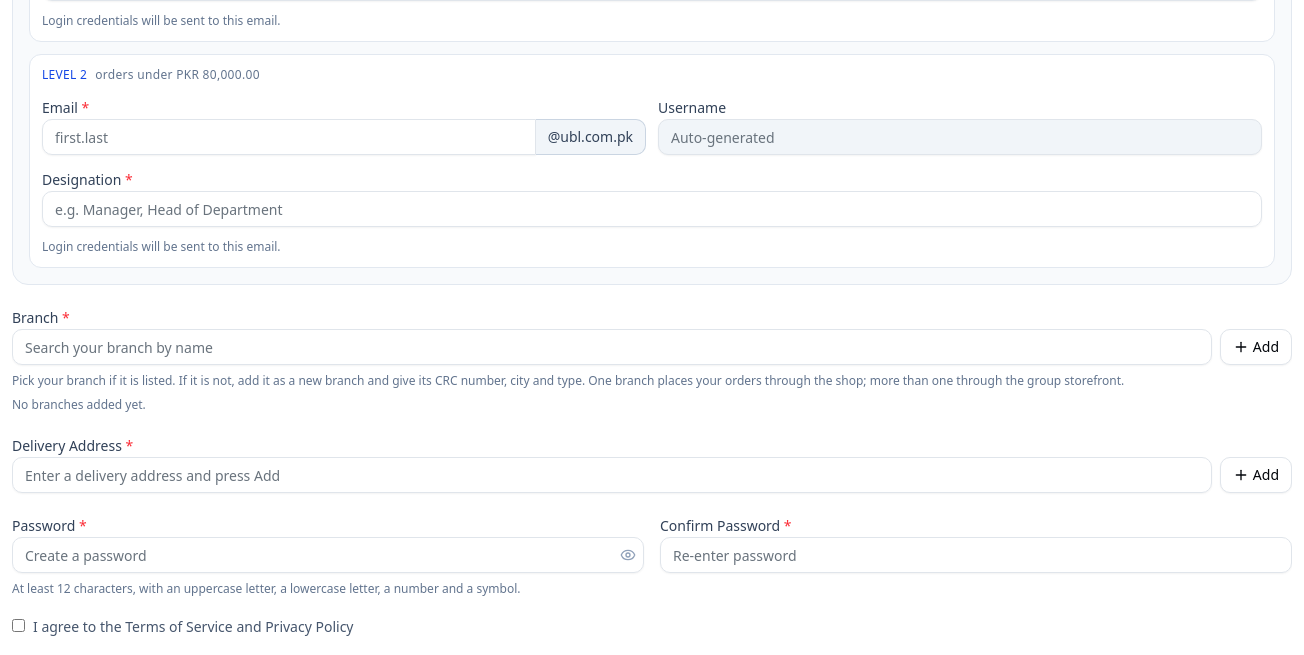
Test: DepartmentSignupForm › refuses a malformed CRC for a new branch instead of adding it
(page scrolled)
In the field with id "signup-branch": (612, 347) [12, 329, 1212, 365], type "Korangi Depot"
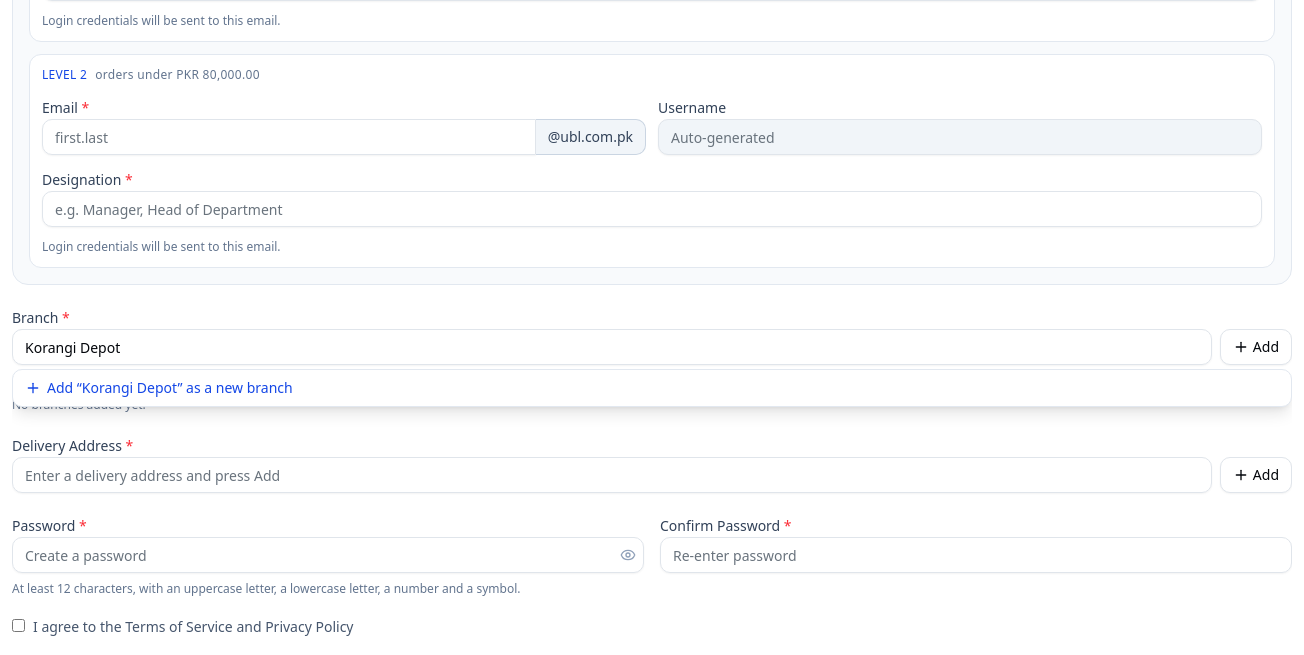
Click the option "Add “Korangi Depot” as a new branch": (64, 388) [13, 370, 1291, 406]
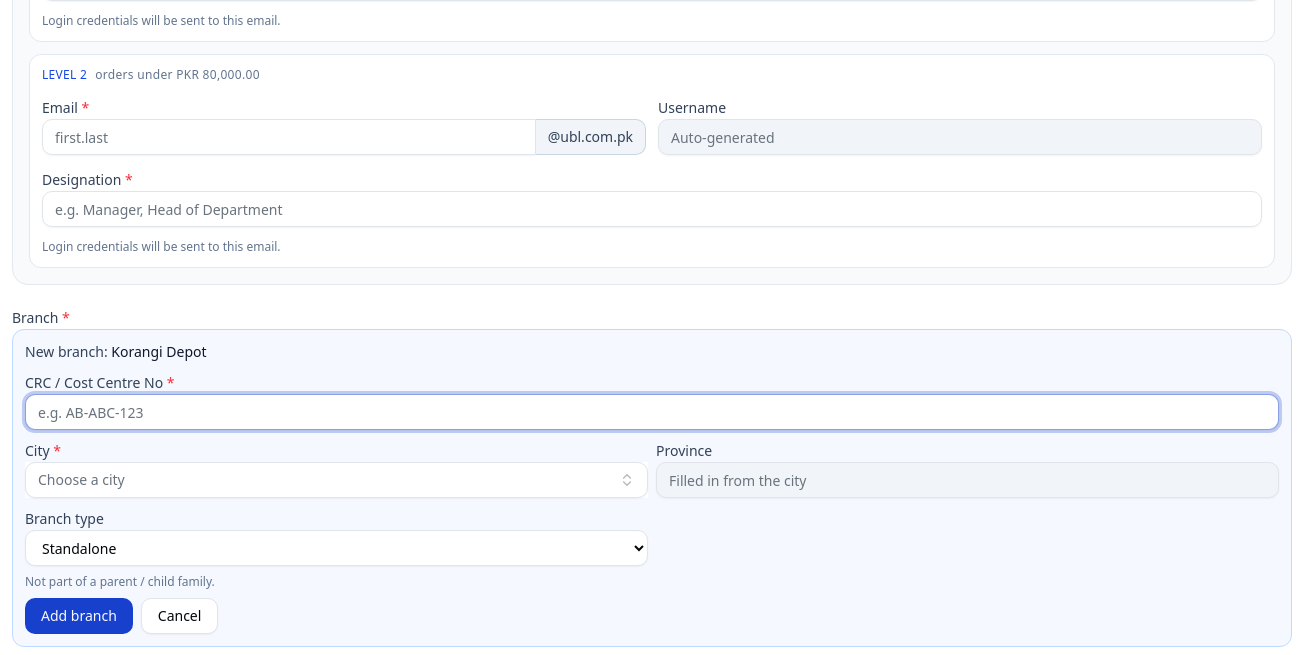
In the field with id "signup-new-branch-crc": (652, 412) [25, 394, 1279, 430], type "AB 12"
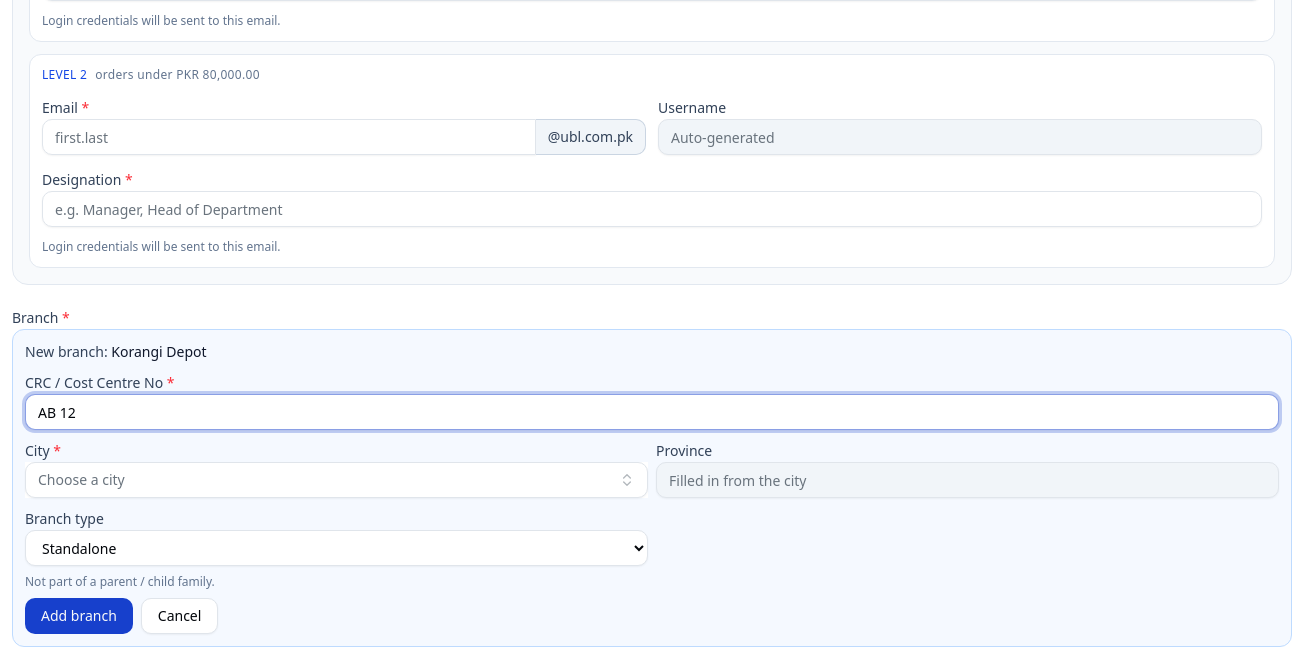
Click the button "Add branch": (79, 616) [25, 598, 133, 634]
(page scrolled)
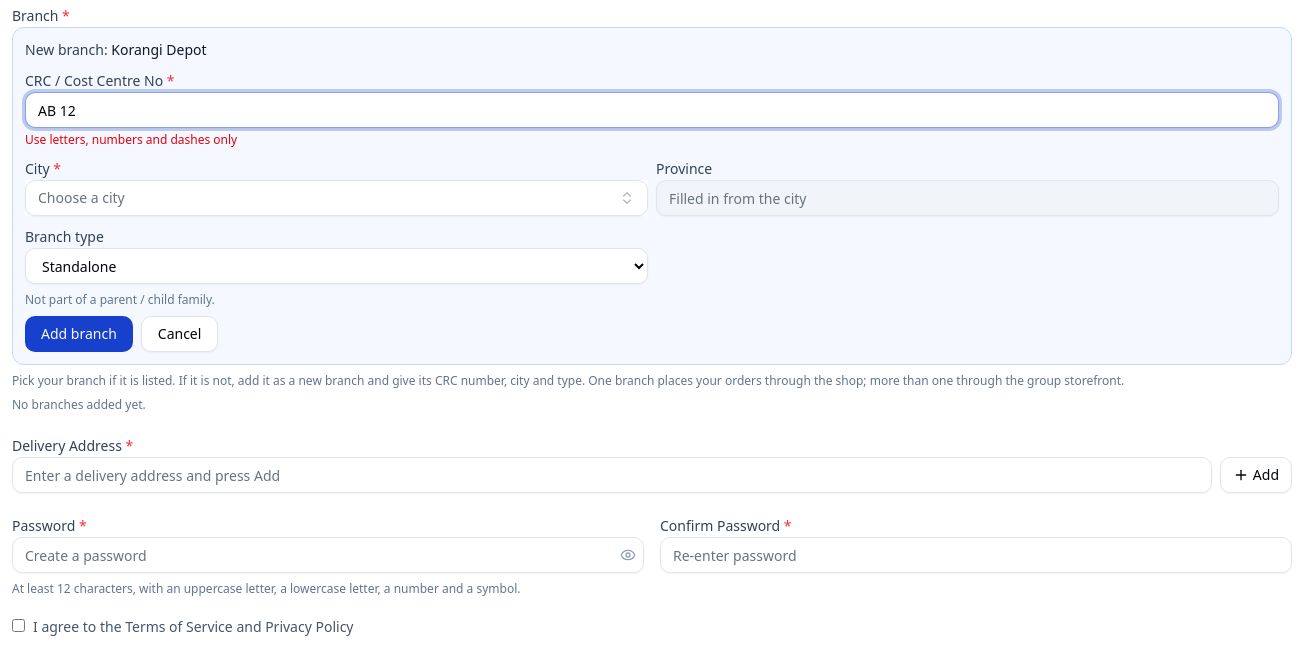
Expected: the text "No branches added yet." is shown, [12, 396, 146, 413]
Result: the text "Use letters, numbers and dashes only" is shown at [25, 131, 237, 148]
